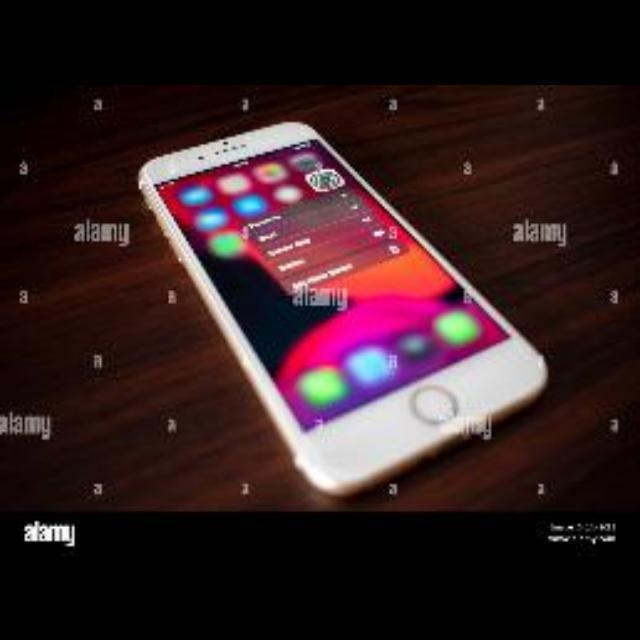Phone: (142, 121, 548, 493)
